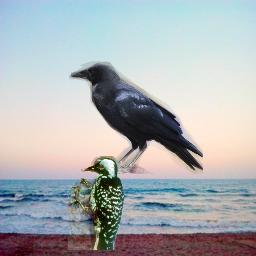Crow: (69, 61, 203, 174)
Woodpecker: (68, 156, 124, 250)
